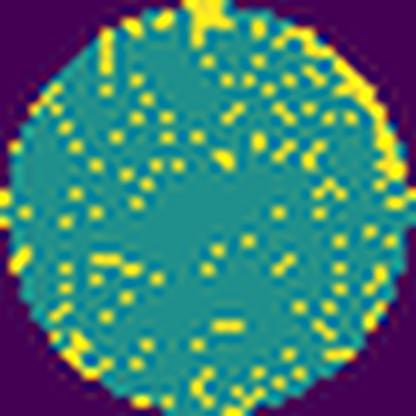Edge-Loc: (274, 18, 410, 195), (183, 0, 236, 50)
